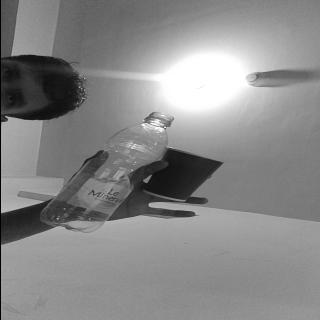objects: (137, 147, 220, 201)
plastic_bottles: (38, 112, 174, 232)
